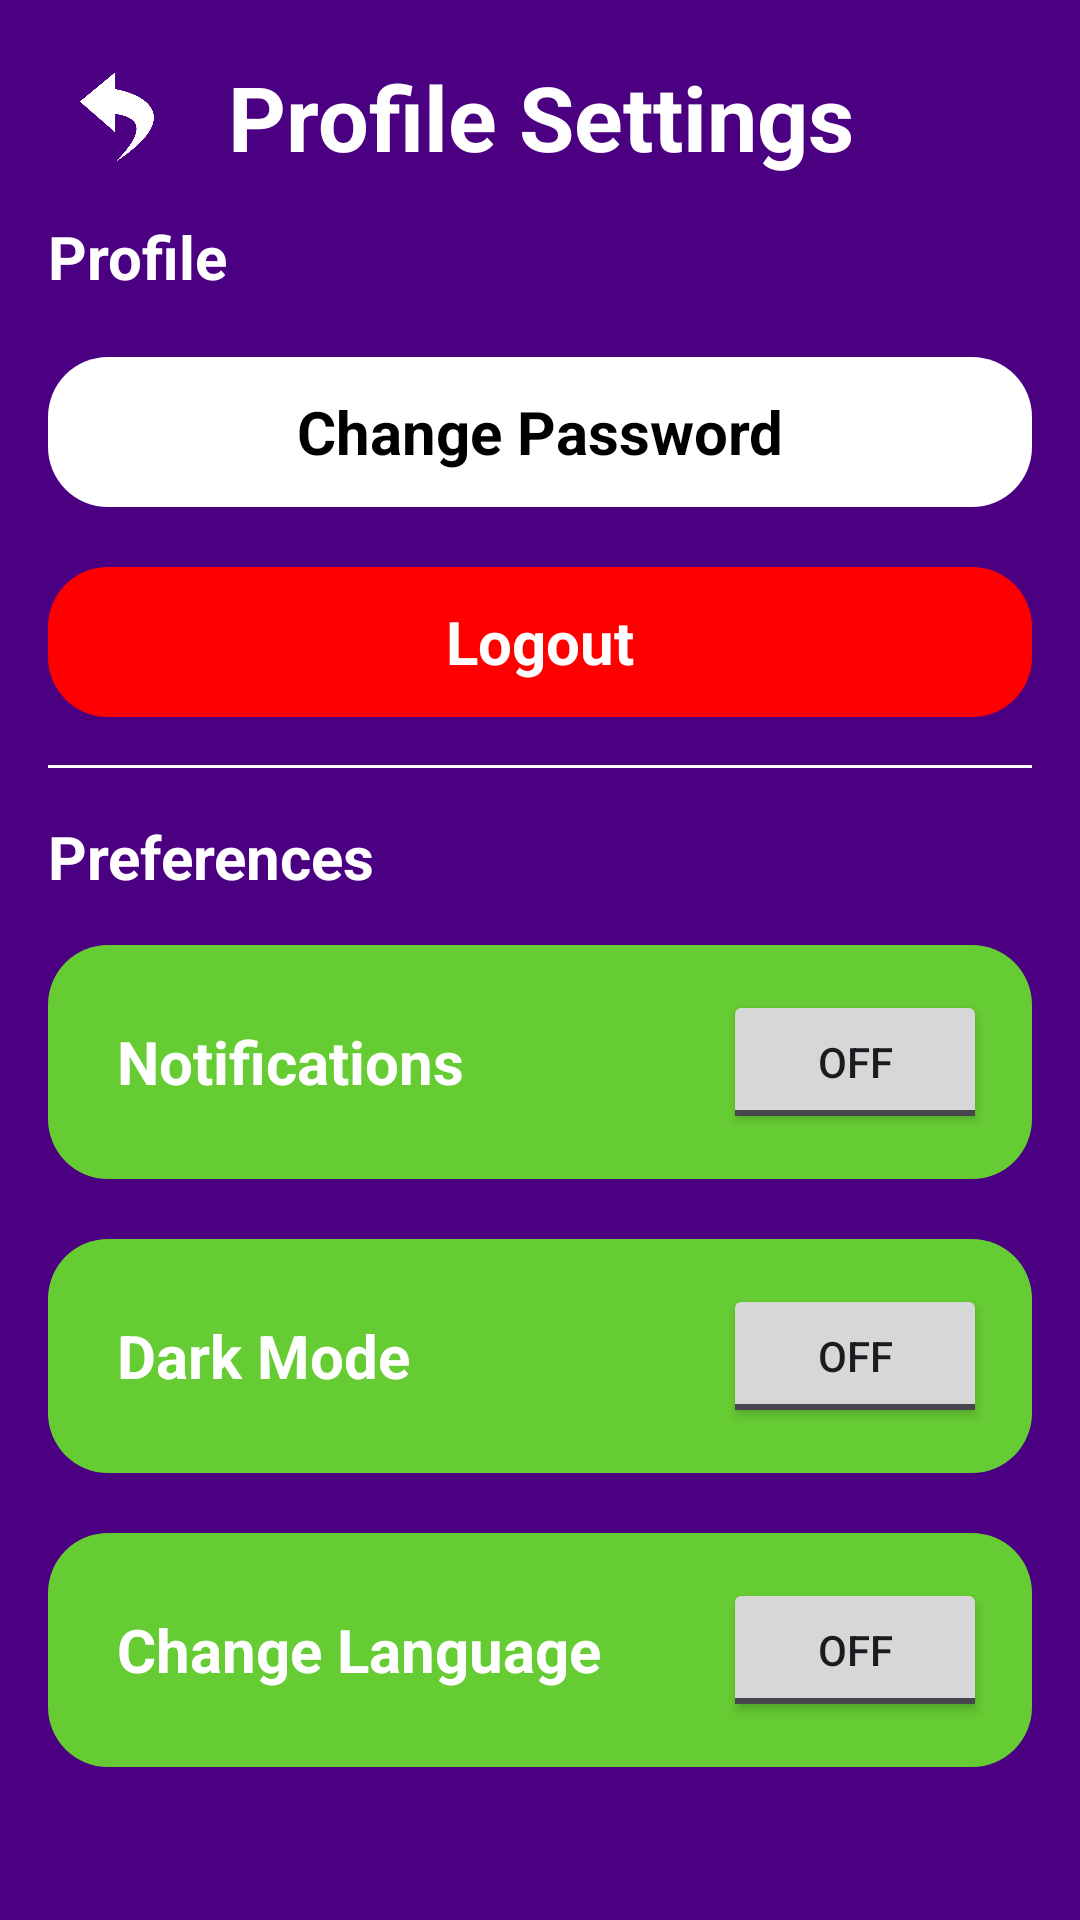

Icon bounding boxes for this 1080*1920 phone screenshot, format (x1, y1, x2, y2):
Back Button: (80, 73, 154, 161)
